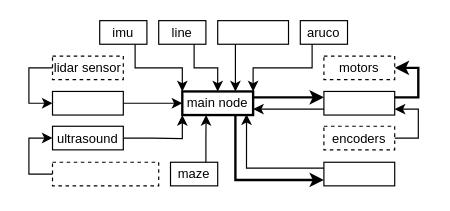
Some shapes in this 450 by 211 pixel diagram are drawn without their labels. The centre of each missing label's shape, as x and y in pixels:
"io node" goes at [359,173].
"keyboard" goes at [253,31].
"kinematics" goes at [359,102].
"lidar" goes at [87,102].
"ultrasound sensor" goes at [105,173].
